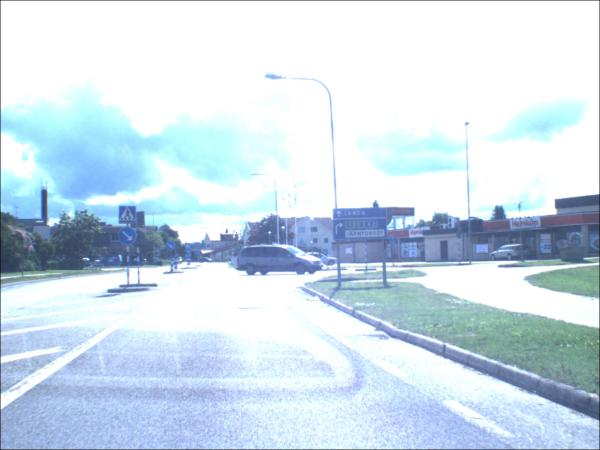PASS_RIGHT_SIDE: (119, 228, 139, 247), (167, 242, 178, 252), (187, 250, 193, 255), (197, 252, 202, 257)
PEDESTRIAN_CROSSING: (122, 208, 138, 226), (187, 245, 193, 251), (157, 249, 162, 254), (234, 248, 237, 253)
